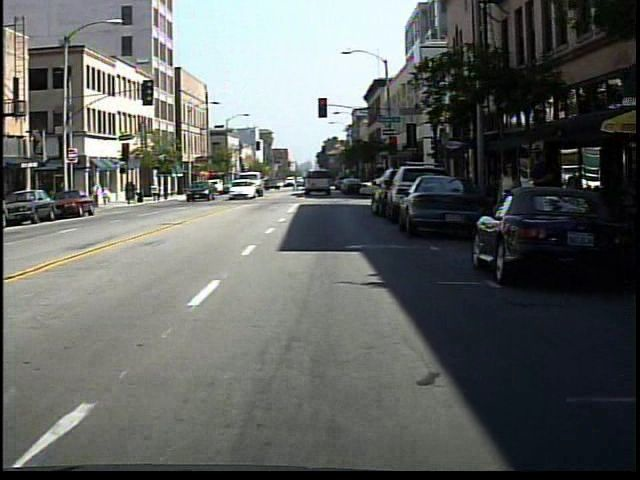person: (522, 141, 557, 256), (495, 155, 523, 253), (89, 179, 104, 209), (104, 184, 117, 210)
